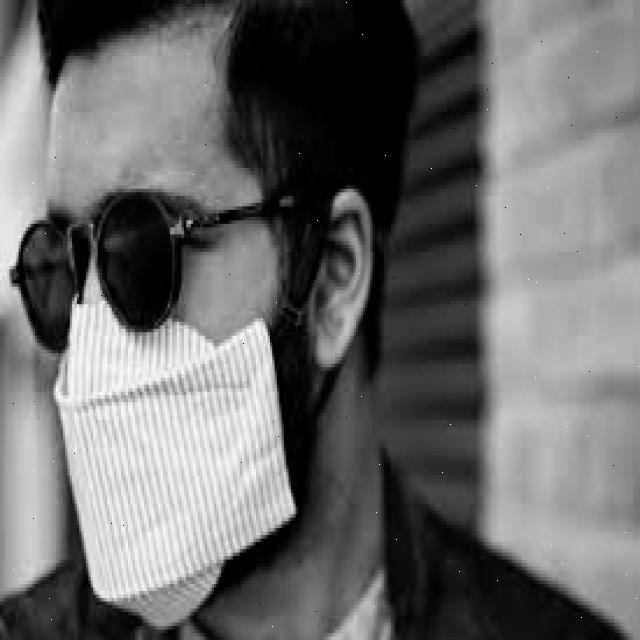fake: (18, 283, 312, 640), (5, 181, 406, 357)
